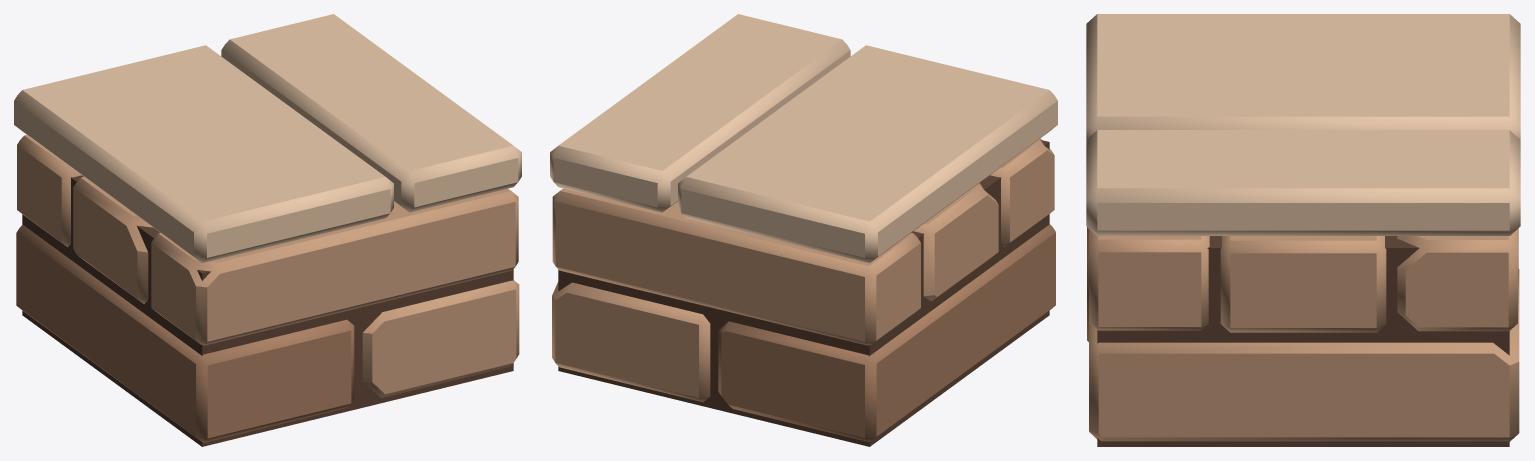
The model's file is wall_cut__upper.glb.
3 views of the same model, side by side, from view 1: azimuth 30°, elevation 25°; view 2: azimuth 150°, elevation 25°; view 3: azimuth 270°, elevation 25° (orthographic). The views are drawn at different scales.
Visible parts, largest first — view 1: wall_cut; view 2: wall_cut; view 3: wall_cut.
Part boxes in pixels (x1,y1,x2,y2): wall_cut: [14, 14, 521, 446]; wall_cut: [550, 14, 1057, 446]; wall_cut: [1086, 14, 1520, 446].
Bounding box in the file's own units: 0.99 × 0.65 × 0.99.
